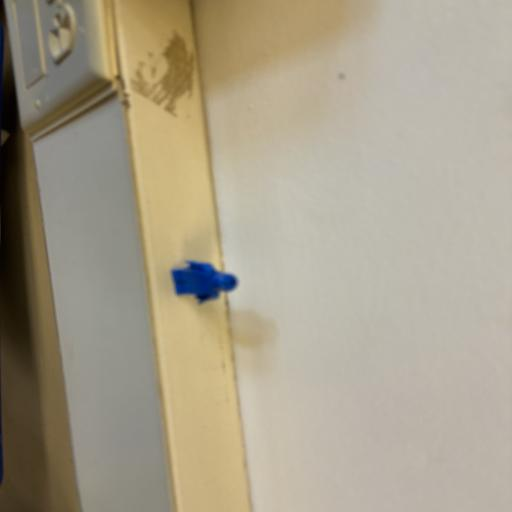Blue-Lego-Minifig: (170, 260, 239, 304)
